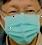with_mask: (1, 2, 42, 45)
